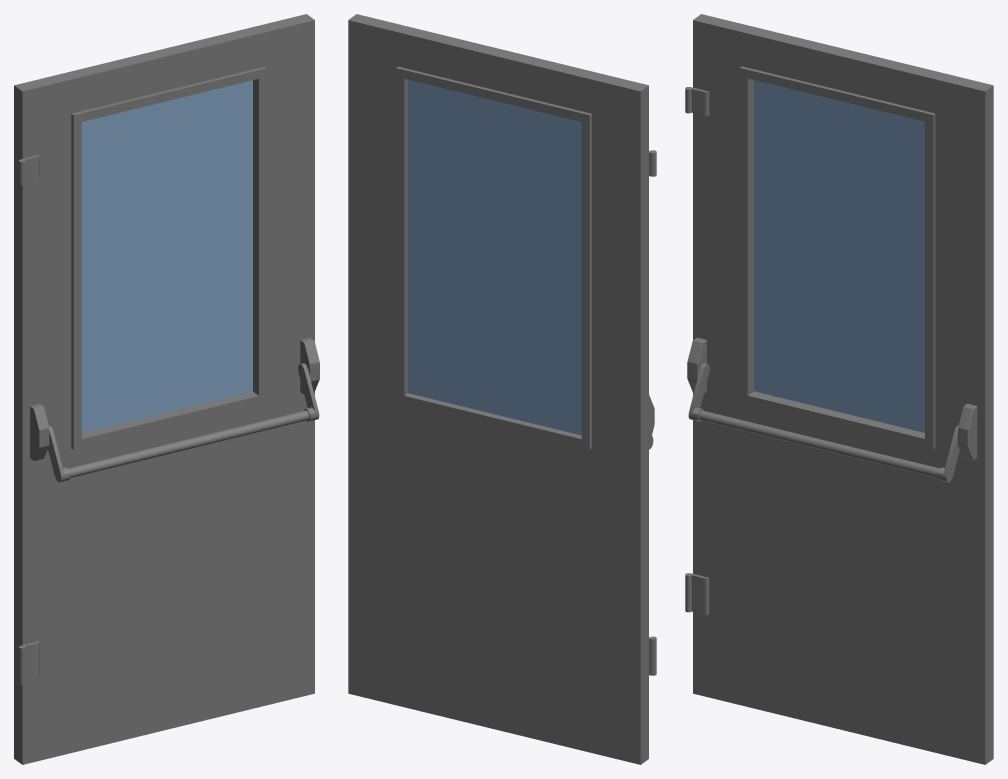
The model's file is SM_DoorLeft.FBX.
The picture shows the model from 3 angles, left to right: view 1: azimuth 30°, elevation 25°; view 2: azimuth 150°, elevation 25°; view 3: azimuth 330°, elevation 25°; orthographic projection.
Parts seen in each view (by area): view 1: SM_DoorLeft_LOD0; view 2: SM_DoorLeft_LOD0; view 3: SM_DoorLeft_LOD0.
Boxes of the visible parts, x1,y1,x2,y2 form: SM_DoorLeft_LOD0: (14, 14, 319, 764); SM_DoorLeft_LOD0: (348, 14, 656, 764); SM_DoorLeft_LOD0: (685, 14, 993, 764).
Size of what is drawn, in the model's own units: 102 by 220 by 19.03.
